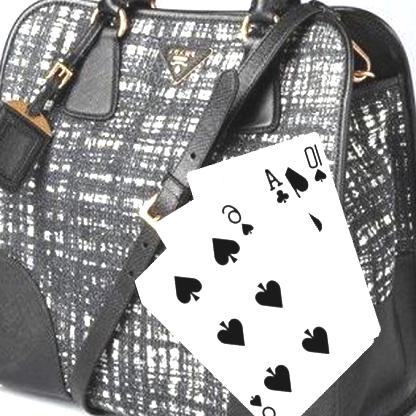10S: (303, 140, 330, 184)
6S: (220, 200, 257, 236), (248, 391, 285, 416)
AC: (262, 165, 292, 204)
